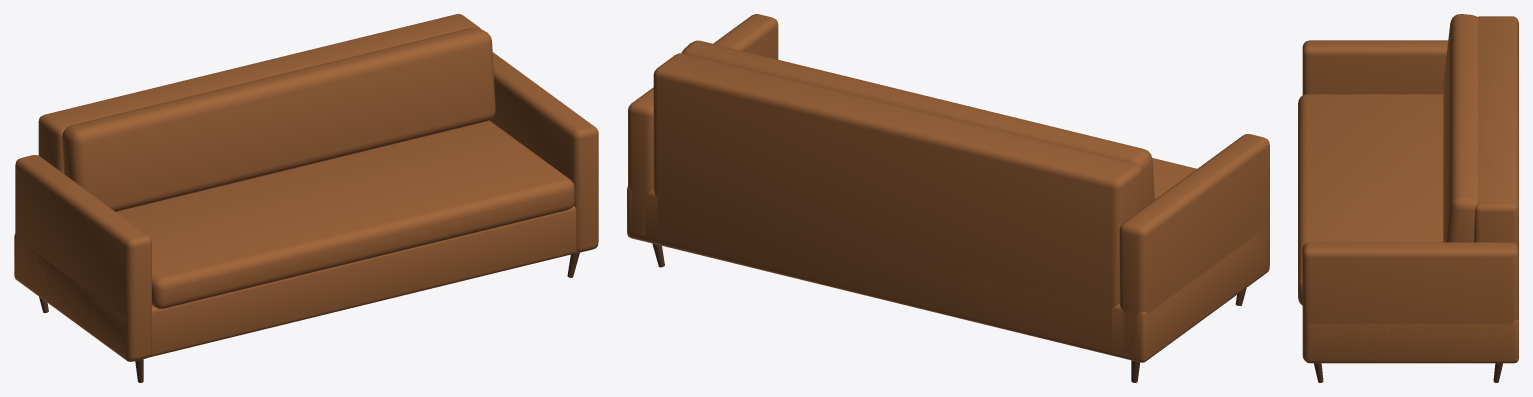
Rendered from tufted-mid-century-sofa.glb.
3 views of the same model, side by side, from view 1: azimuth 30°, elevation 25°; view 2: azimuth 150°, elevation 25°; view 3: azimuth 270°, elevation 25° (orthographic). The views are drawn at different scales.
Visible parts, largest first — view 1: tufted-mid-century-sofa; view 2: tufted-mid-century-sofa; view 3: tufted-mid-century-sofa.
Boxes of the visible parts, <box> form: tufted-mid-century-sofa: <box>14,14,598,382</box>; tufted-mid-century-sofa: <box>627,14,1269,382</box>; tufted-mid-century-sofa: <box>1298,14,1518,382</box>.
Bounding box in the file's own units: 2.24 × 0.8763 × 0.9779.
